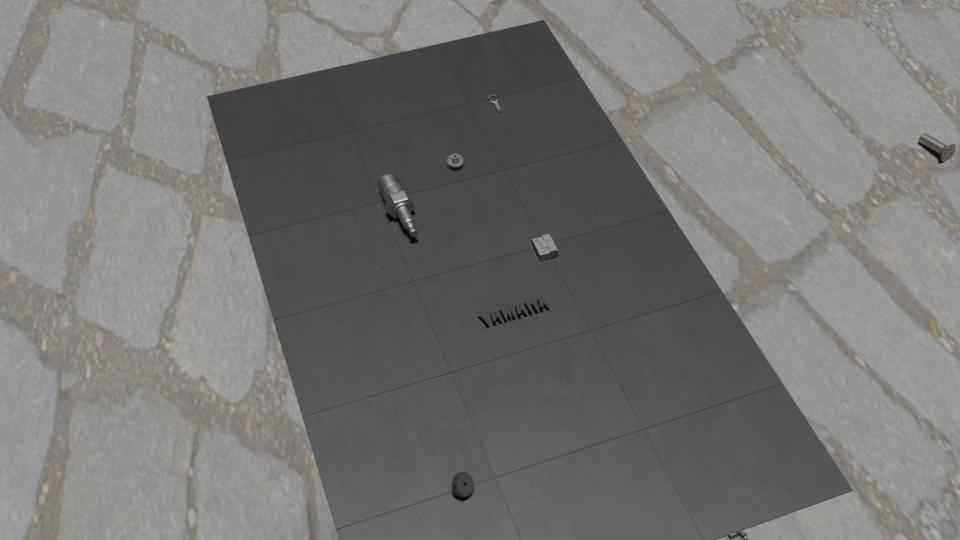yamaha_letters: (476, 292, 550, 323)
